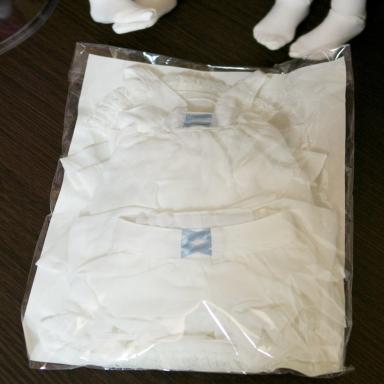plasticbag: (20, 39, 352, 382)
